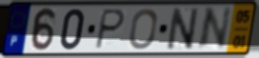0: (58, 8, 87, 52)
6: (30, 6, 58, 53)
N: (195, 6, 234, 52), (166, 6, 201, 52)
O: (128, 7, 159, 51)
P: (93, 8, 127, 51)
